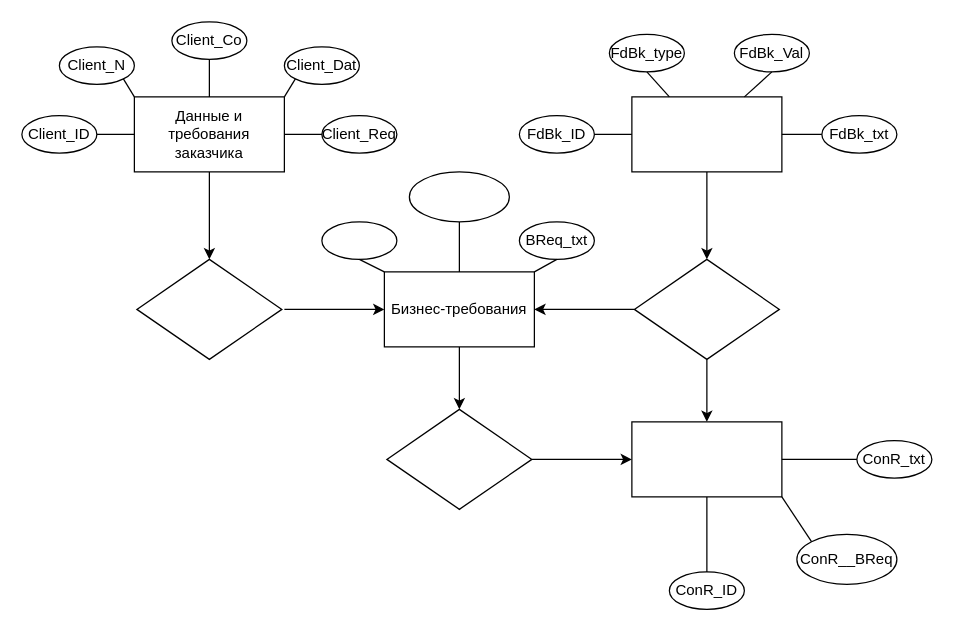
Image size: 954x631. Some labels were removed from this diagram. The box of each missing label's shape, as (x1, y1, x2, y2) in pixels:
BReq_Client: (408, 171, 509, 222)
BReq_ID: (321, 221, 397, 259)
Достает из хранилища: (633, 258, 779, 359)
Заключение о рисках: (631, 421, 782, 497)
Обратная связь о качестве исполнения заказа: (631, 96, 782, 172)
Получает: (136, 258, 282, 359)
Требует: (386, 408, 532, 509)
